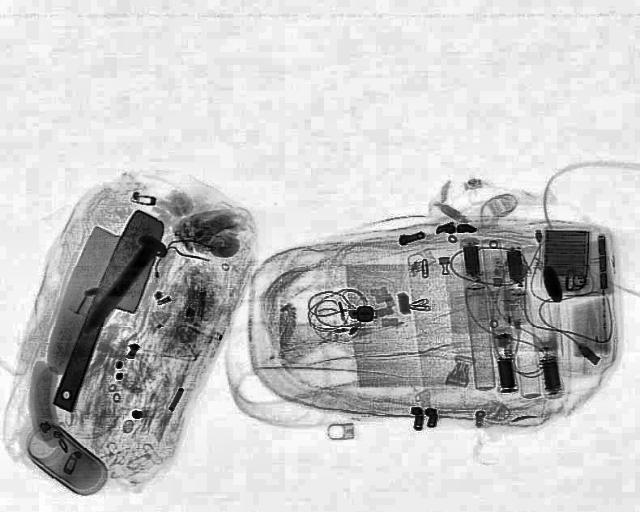Knife: (44, 206, 176, 418)
